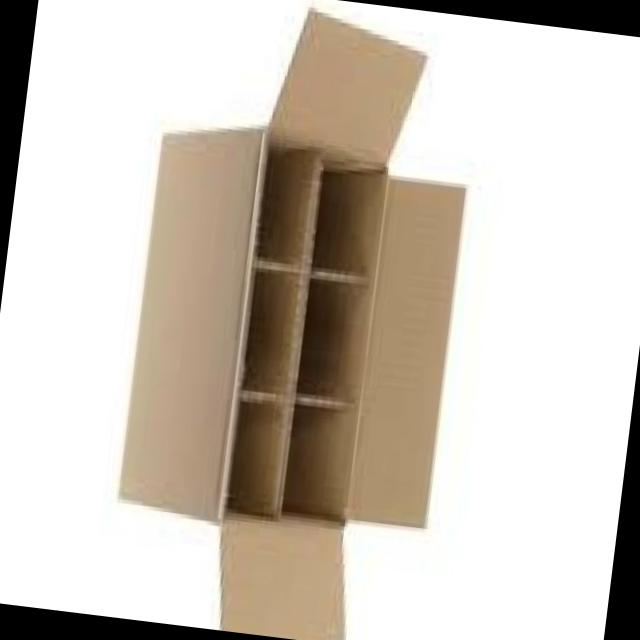cardboard paper: (121, 14, 465, 640)
